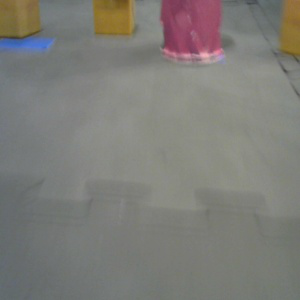Right: (156, 2, 226, 63)
